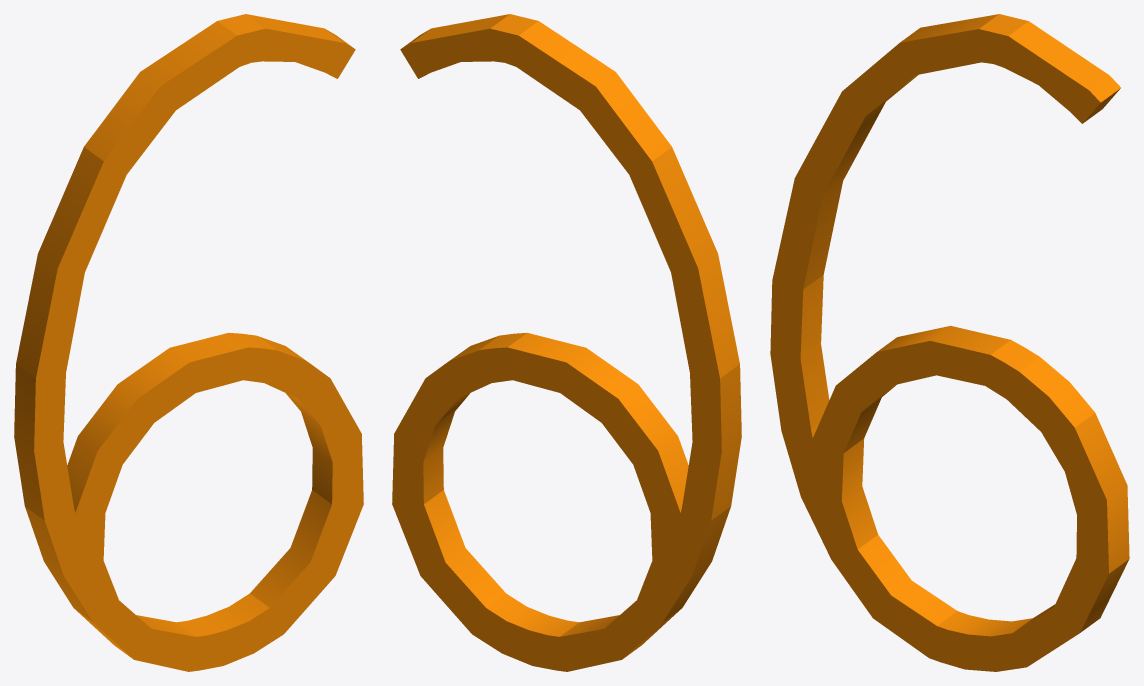
3 views of the same model, side by side, from view 1: azimuth 30°, elevation 25°; view 2: azimuth 150°, elevation 25°; view 3: azimuth 330°, elevation 25° (orthographic). The views are drawn at different scales.
Parts seen in each view (by area): view 1: 6; view 2: 6; view 3: 6.
Part boxes in pixels (x1,y1,x2,y2): 6: (14, 14, 363, 671); 6: (392, 14, 741, 671); 6: (770, 14, 1129, 671).
Bounding box in the file's own units: 47.66 × 86.6 × 5.
